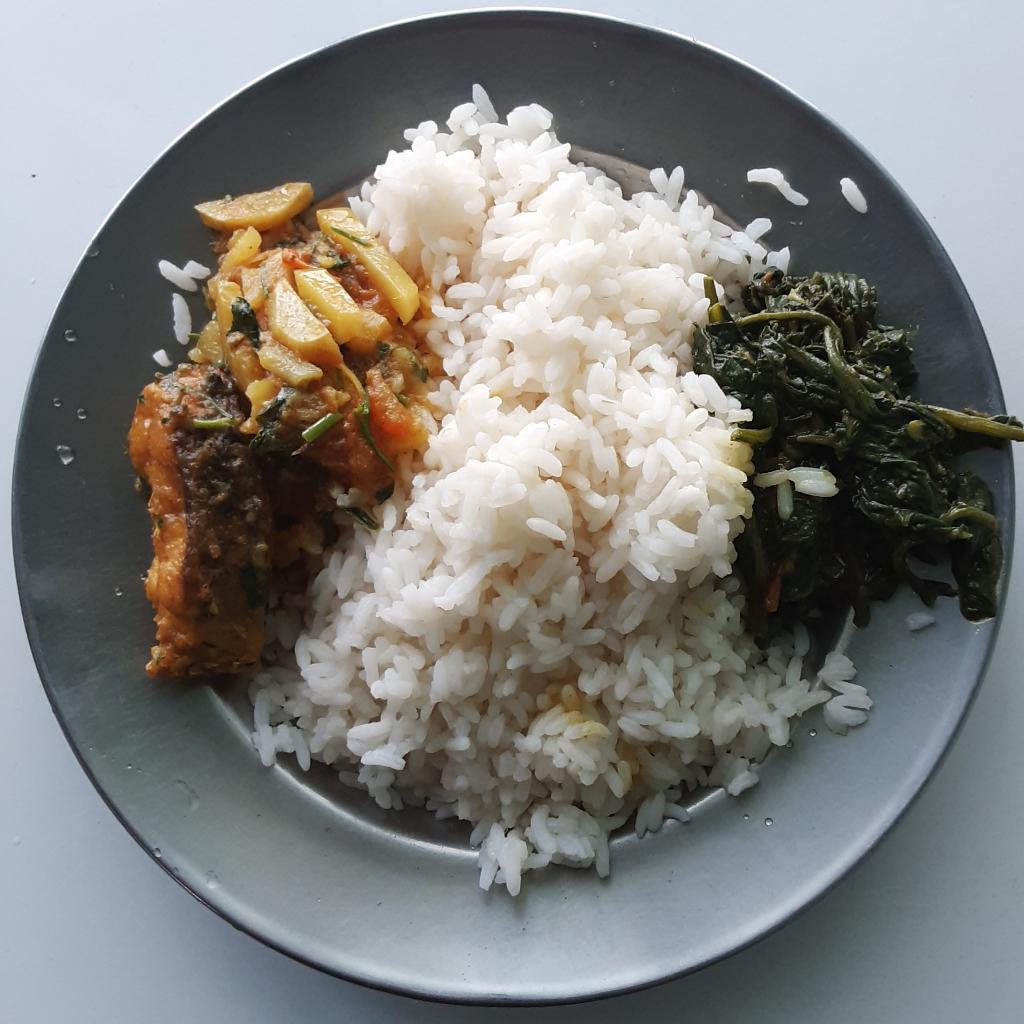fish: (127, 357, 274, 684)
potato: (184, 185, 426, 517)
rice: (246, 78, 873, 902)
shak: (694, 268, 1024, 641)
